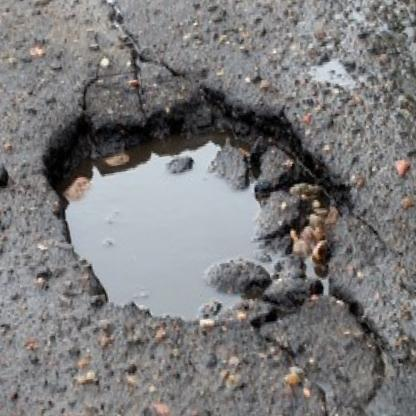pothole: (33, 67, 361, 350)
